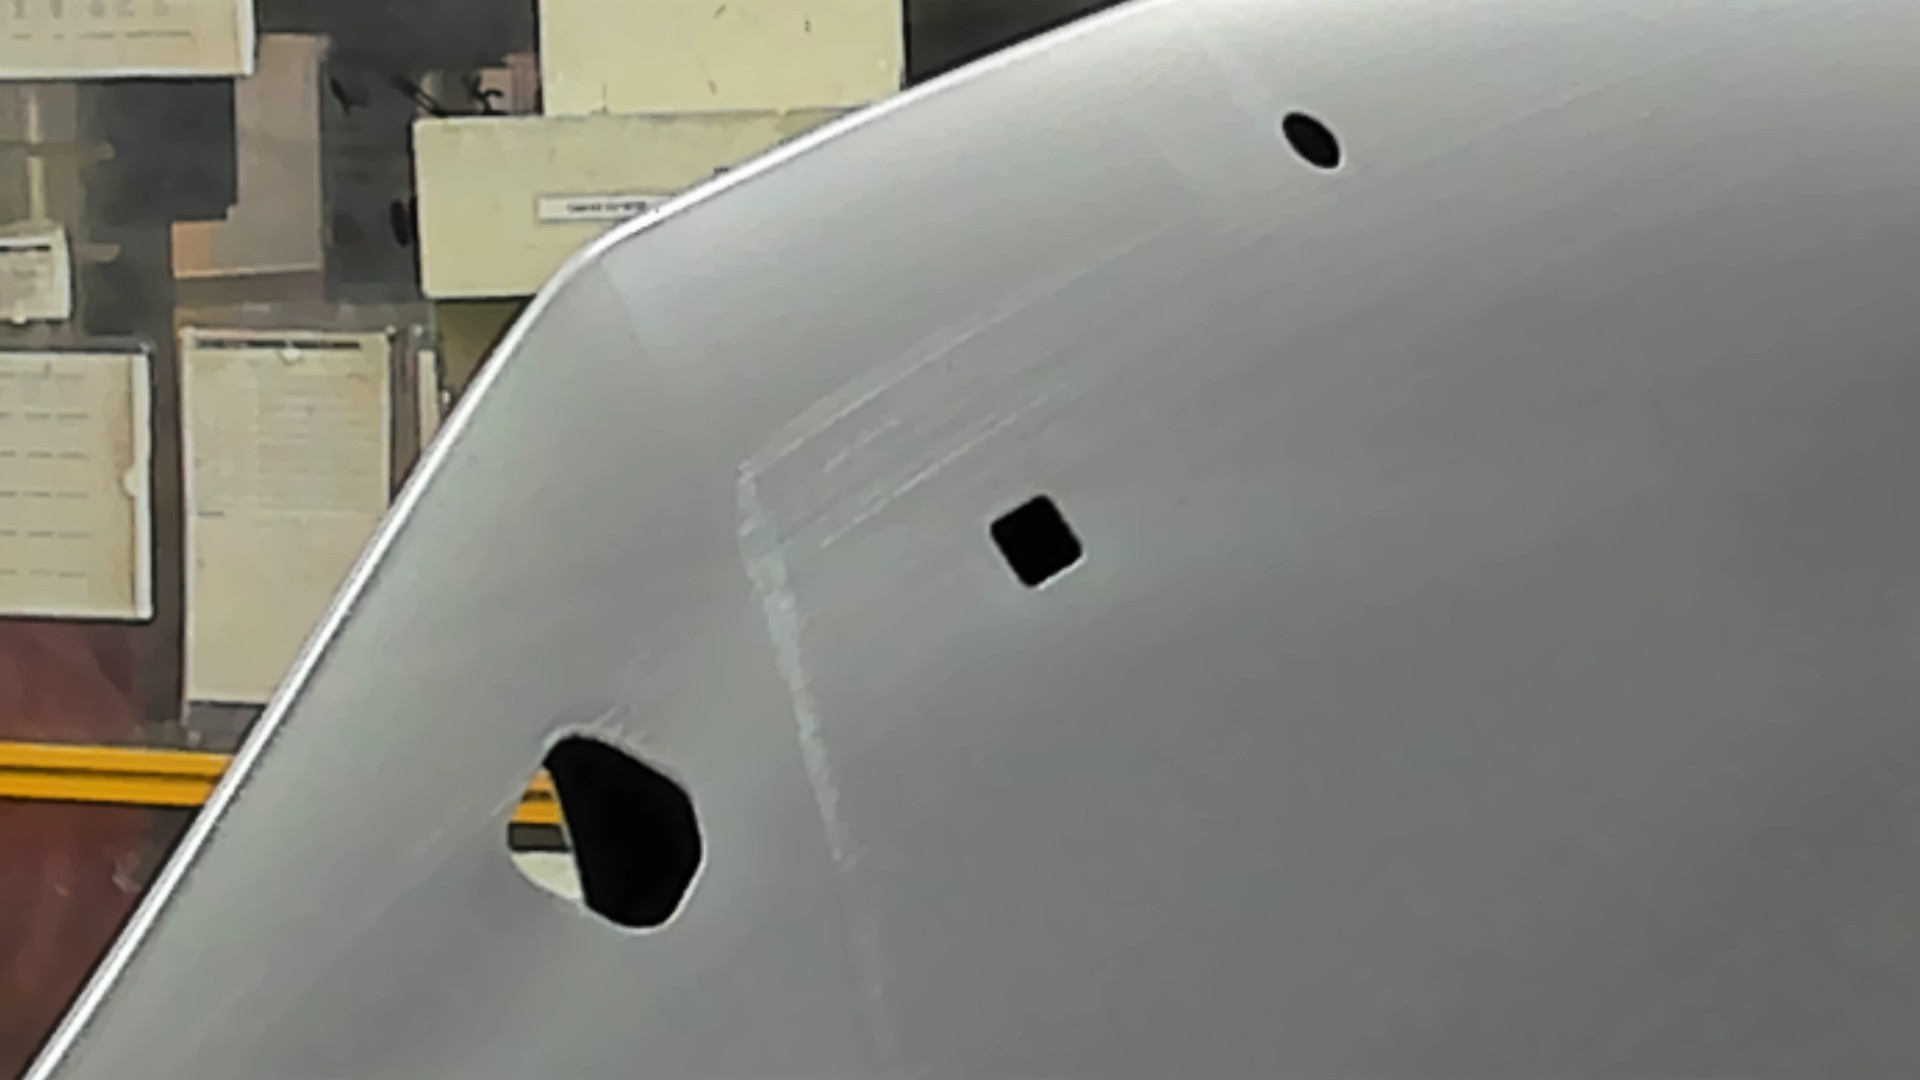chico: (1276, 104, 1348, 177)
grande: (498, 723, 711, 942)
mediano: (984, 488, 1092, 593)
